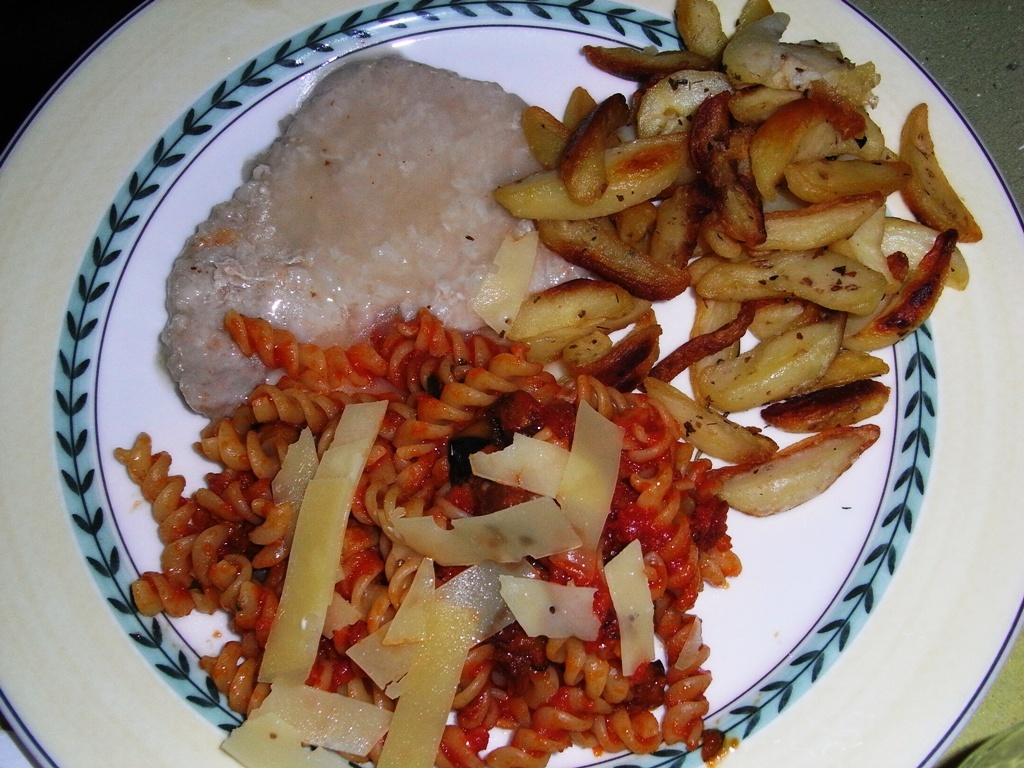French fries: (458, 49, 970, 489)
